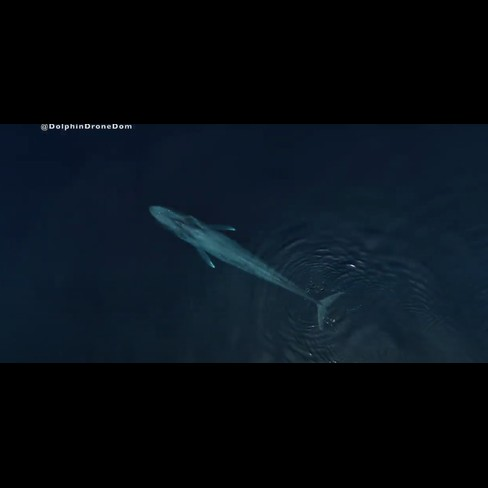bluewhale: (145, 201, 349, 334)
